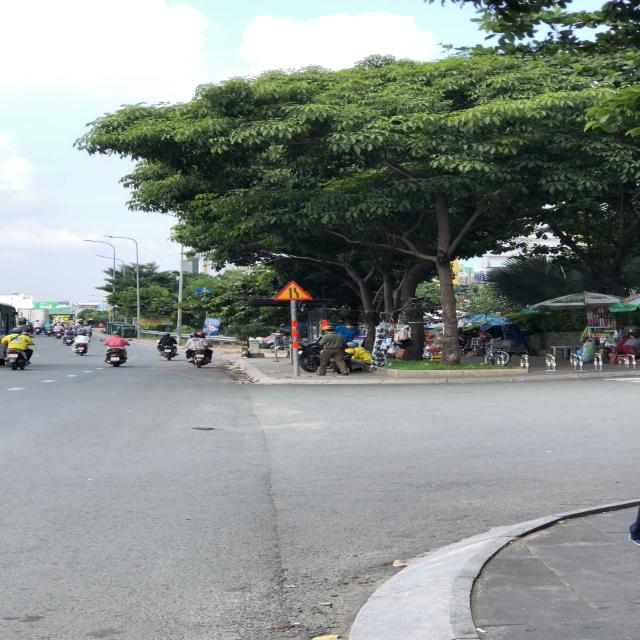Bien bao duong bi thu hep: (269, 279, 318, 301)
